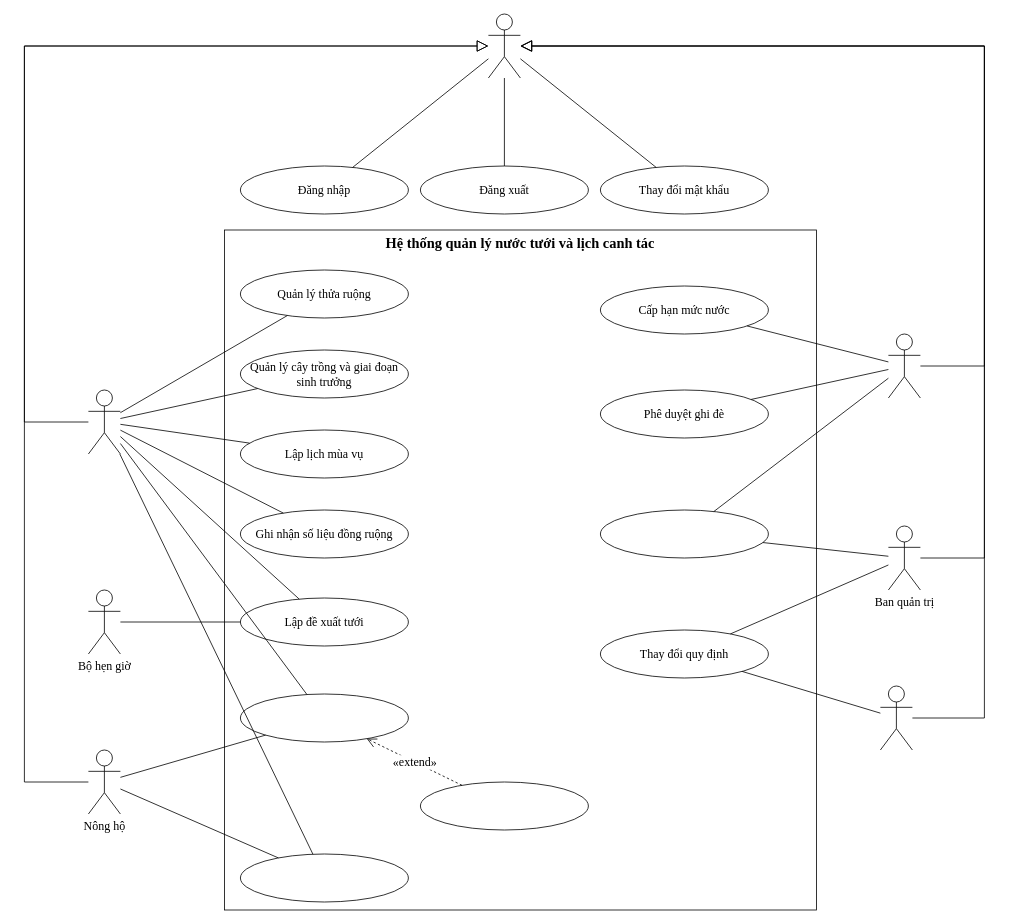
Image size: 1010x924. Some labels were removed from this diagram. Here are the shapes that lost their labels. From the top down, the centre of each, then its label:
At (x=504, y=45): "Người dùng".
At (x=904, y=365): "Quản lý tổ thủy nông".
At (x=104, y=421): "Cán bộ kỹ thuật".
At (x=684, y=533): "Báo cáo sử dụng nước".
At (x=324, y=717): "Tra cứu và xác nhận đề xuất".
At (x=896, y=717): "Quản trị hệ thống".
At (x=504, y=805): "Ghi đè đề xuất có lý do".
At (x=324, y=877): "Ghi lượng tưới thực tế".
